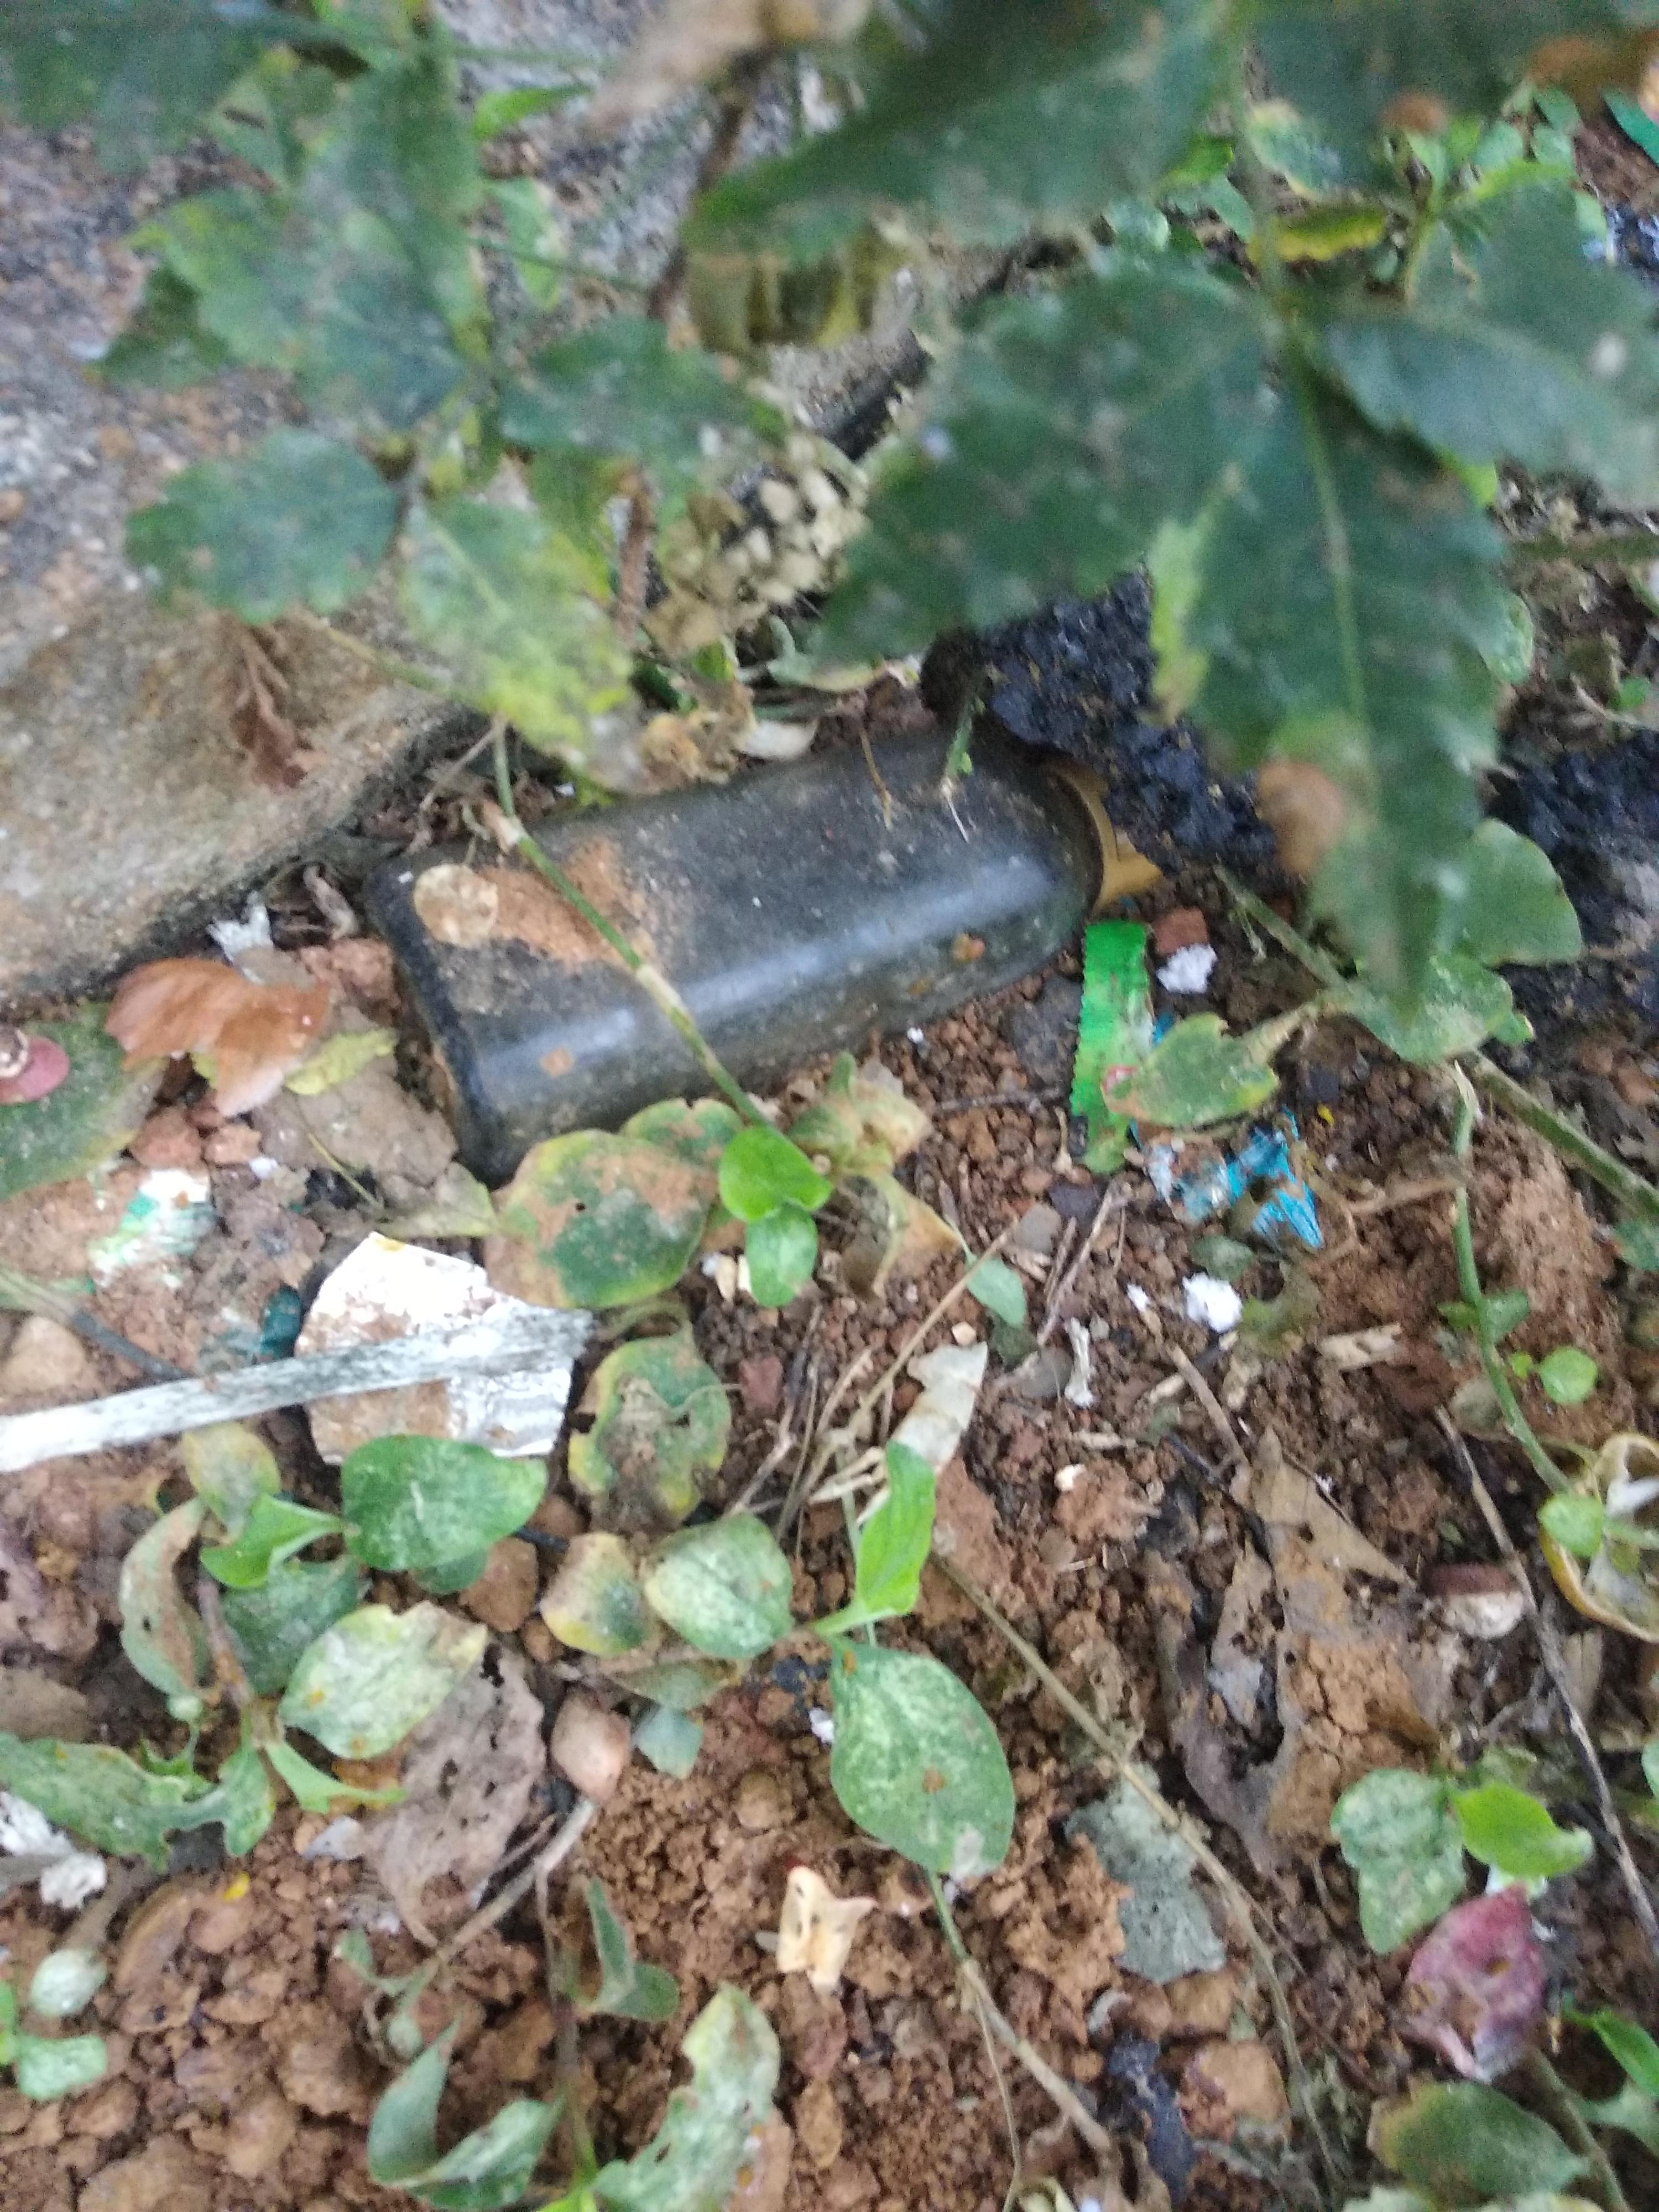trash: (354, 723, 1276, 1186)
